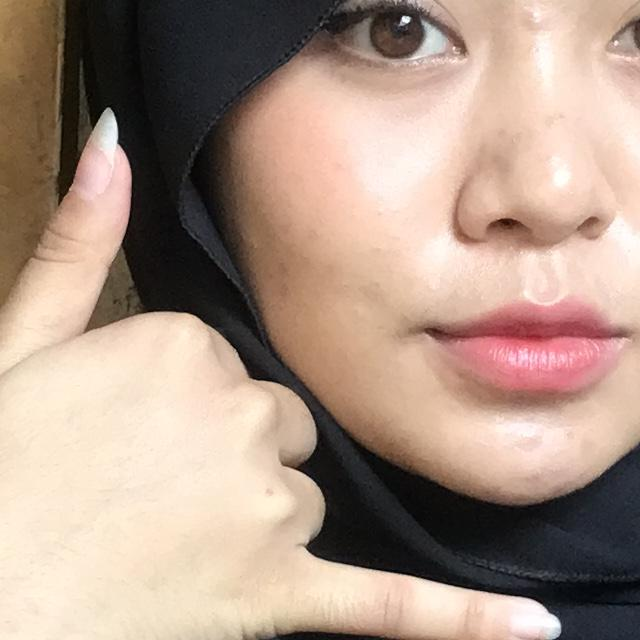telpon: (0, 56, 610, 640)
